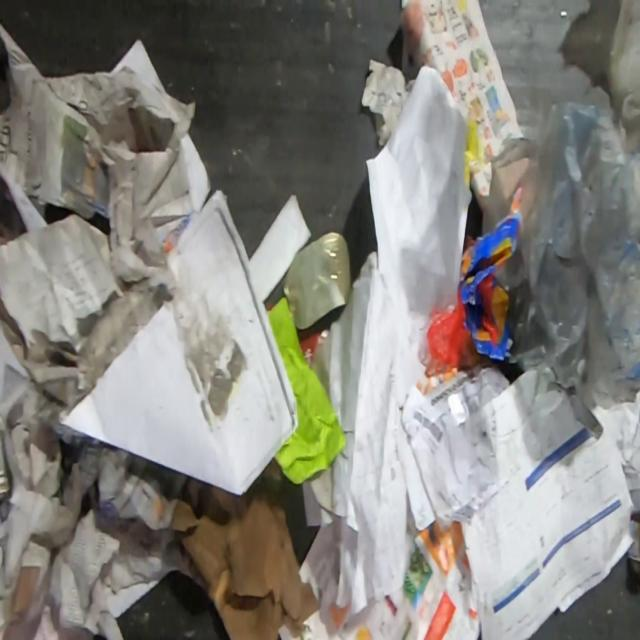cardboard: (458, 214, 514, 362)
metal: (282, 230, 354, 330)
soft_plastic: (490, 97, 640, 419), (424, 286, 488, 377), (606, 0, 640, 151)
